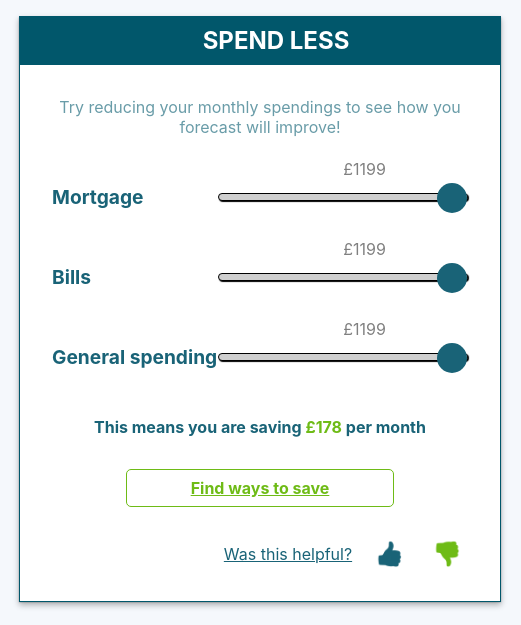
Test: SavingsCalculator › should hide buttons after click and show message
The image size is (521, 625).
Click the button "👍". click: (389,554)
box: x1=368 y1=539 x2=410 y2=569
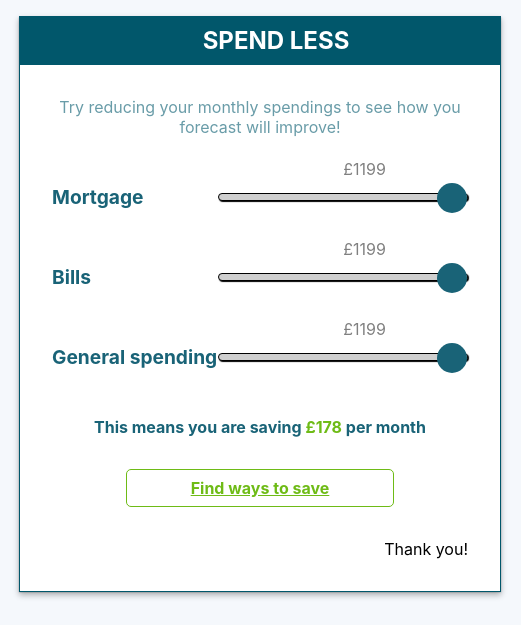
Result: no buttons are shown
Result: the text "Thank you!" is shown at x1=384 y1=539 x2=468 y2=559
